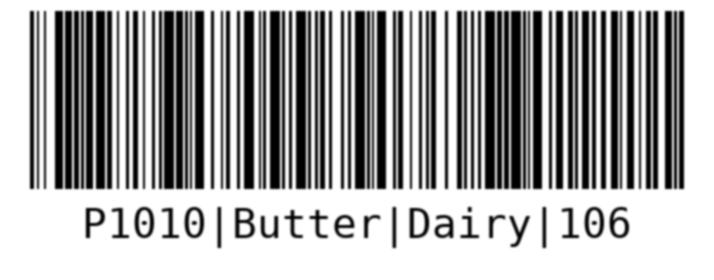milk: (23, 5, 690, 265)
